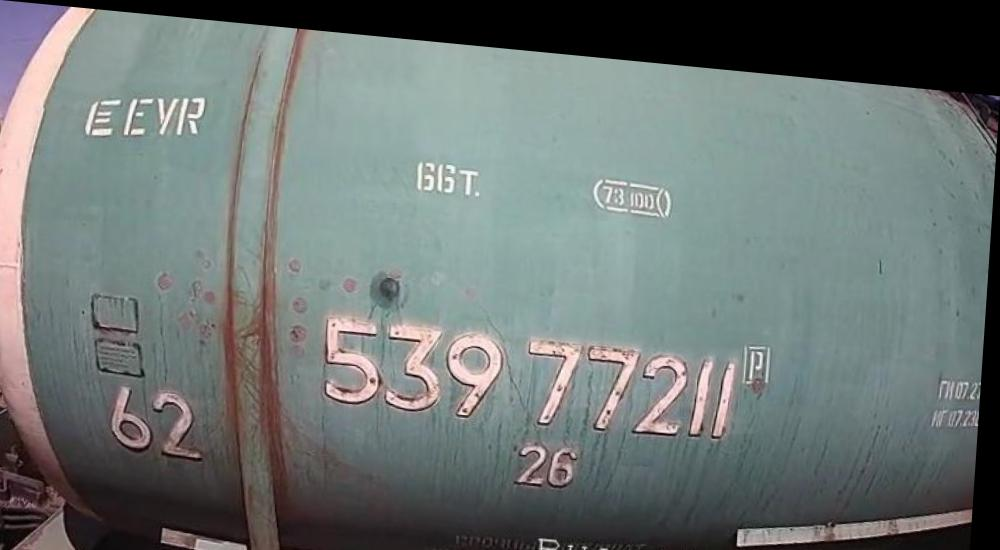Wagon-number: (324, 303, 748, 431)
